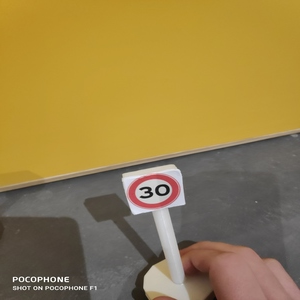30-bord: (128, 174, 182, 211)
